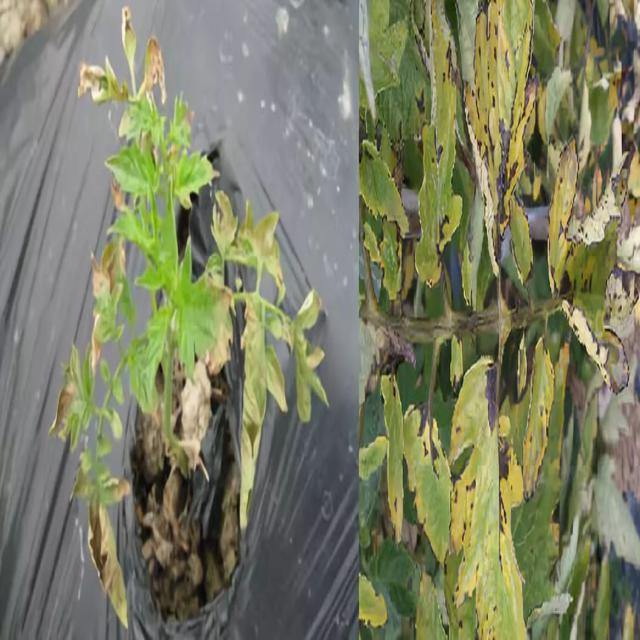Early_blight: (545, 135, 640, 396), (445, 354, 530, 640), (238, 291, 329, 530), (464, 1, 534, 288), (417, 1, 462, 286), (75, 472, 135, 632), (512, 336, 567, 501), (207, 198, 284, 289), (408, 394, 446, 479), (201, 282, 235, 376), (89, 234, 130, 310), (47, 370, 82, 446), (76, 59, 129, 105), (140, 32, 168, 110), (482, 359, 503, 438), (116, 7, 137, 59)
